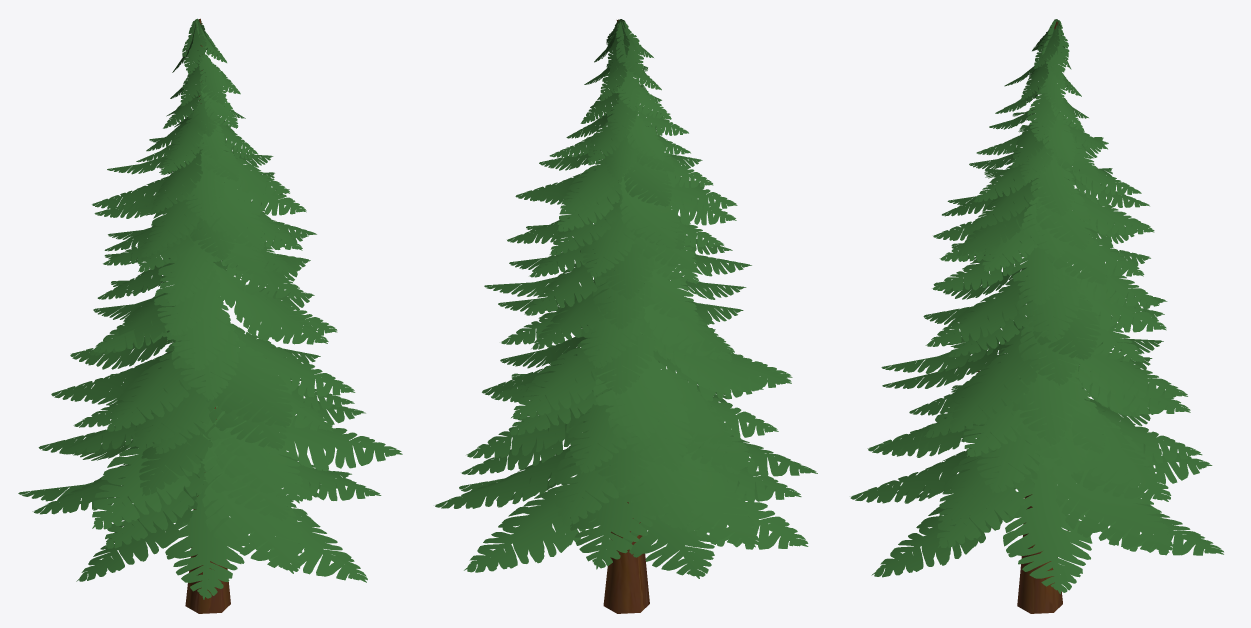
The model's file is STPine3.glb.
3 views of the same model, side by side, from view 1: azimuth 30°, elevation 25°; view 2: azimuth 150°, elevation 25°; view 3: azimuth 270°, elevation 25° (orthographic). The views are drawn at different scales.
Visible parts, largest first — view 1: STPine3_Leaves, STPine3_Trunk; view 2: STPine3_Leaves, STPine3_Trunk; view 3: STPine3_Leaves, STPine3_Trunk.
Boxes of the visible parts, bbox=[...] form: STPine3_Leaves: bbox=[18, 18, 402, 599]; STPine3_Trunk: bbox=[185, 18, 230, 613]; STPine3_Leaves: bbox=[435, 19, 817, 578]; STPine3_Trunk: bbox=[603, 19, 649, 613]; STPine3_Leaves: bbox=[850, 19, 1223, 593]; STPine3_Trunk: bbox=[971, 21, 1068, 613].
Bounding box in the file's own units: 7.54 × 12.87 × 7.74.
Materials: 2 (2 with a texture image).
